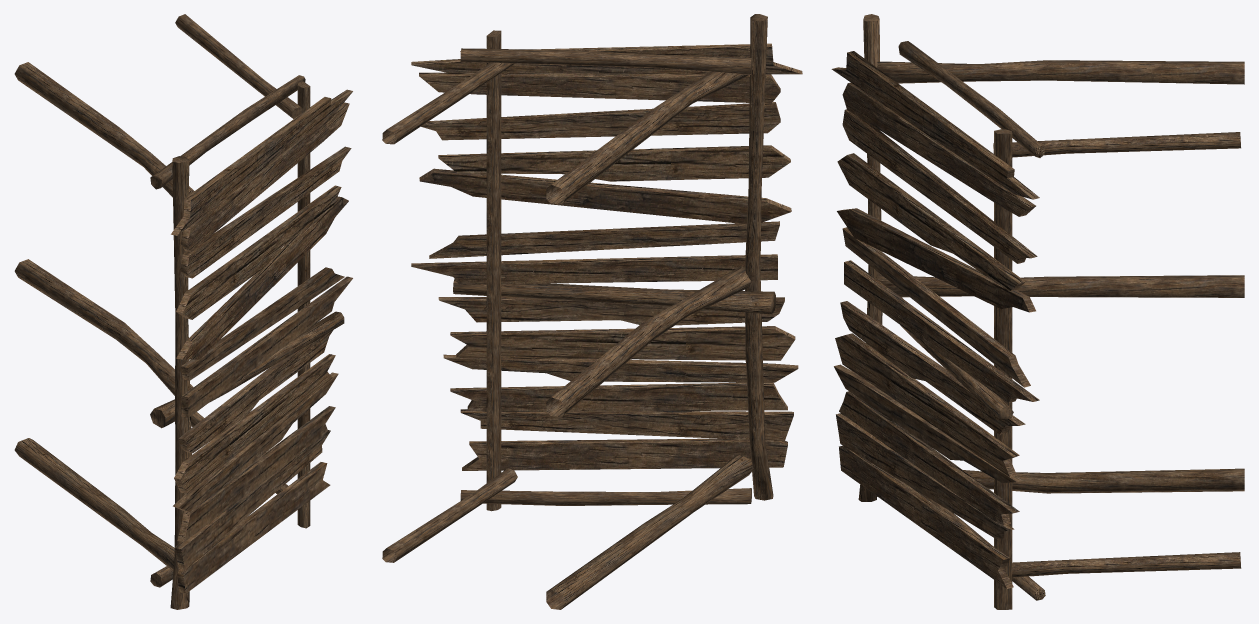
File: constuct_understand_wood.fbx
3 renders of one model, left to right at view 1: azimuth 30°, elevation 25°; view 2: azimuth 150°, elevation 25°; view 3: azimuth 270°, elevation 25°, orthographic. The views are drawn at different scales.
Parts seen in each view (by area): view 1: object; view 2: object; view 3: object.
Part boxes in pixels (x1,y1,x2,y2): object: (14,14,352,609); object: (382,14,802,609); object: (831,14,1244,609).
Bounding box in the file's own units: 71.28 × 114 × 86.37.
